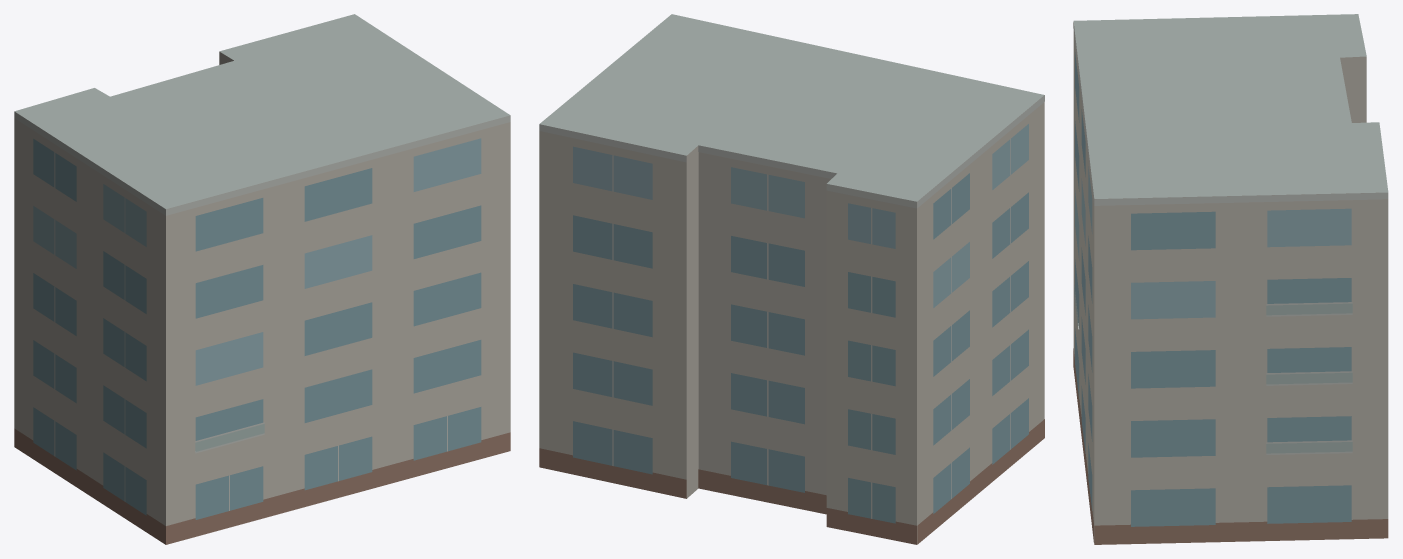
Rendered from survey-upis-32703166.glb.
3 renders of one model, left to right at view 1: azimuth 30°, elevation 25°; view 2: azimuth 150°, elevation 25°; view 3: azimuth 270°, elevation 25°, orthographic. The views are drawn at different scales.
Visible parts, largest first — view 1: survey-upis-32703166.tmp; view 2: survey-upis-32703166.tmp; view 3: survey-upis-32703166.tmp.
Boxes of the visible parts, x1,y1,x2,y2 form: survey-upis-32703166.tmp: (14, 14, 510, 544); survey-upis-32703166.tmp: (539, 14, 1044, 544); survey-upis-32703166.tmp: (1073, 14, 1388, 544).
Size of the model in its own units: 14.13 by 12.3 by 10.16.
